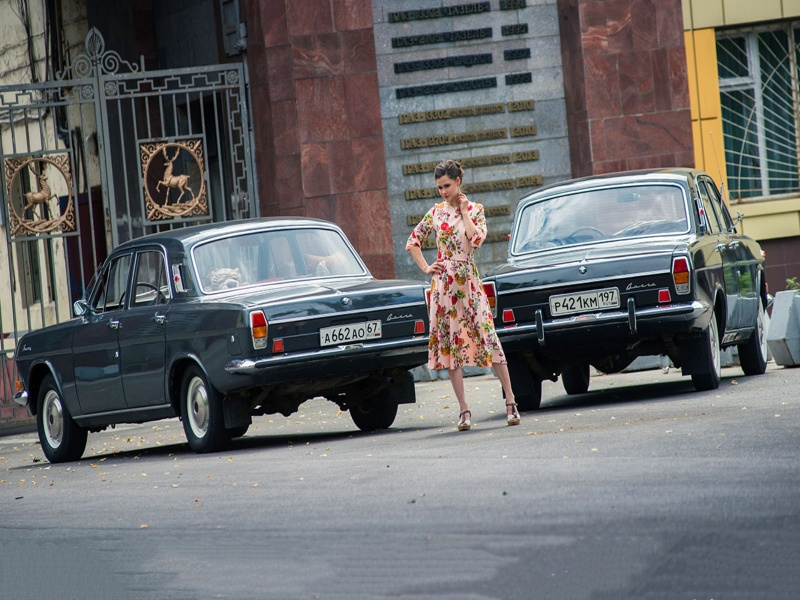car: (14, 216, 432, 462), (481, 166, 775, 406)
person: (406, 160, 519, 430)
plate: (549, 287, 620, 316), (319, 320, 381, 346)
